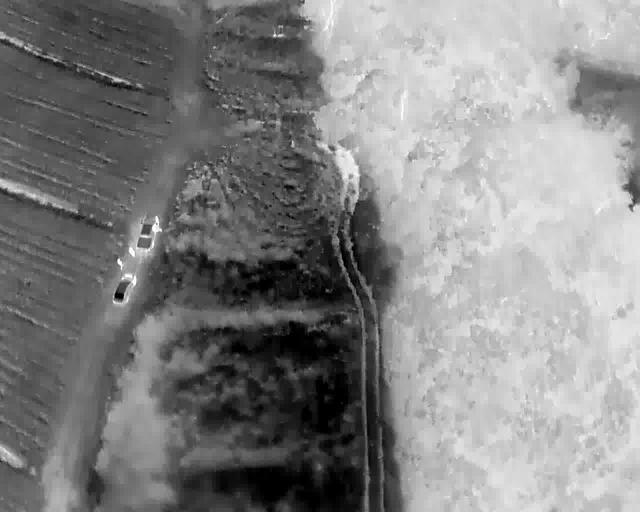car: (112, 273, 136, 303), (135, 224, 156, 251)
person: (116, 257, 124, 271), (129, 246, 135, 256), (155, 216, 159, 228)
